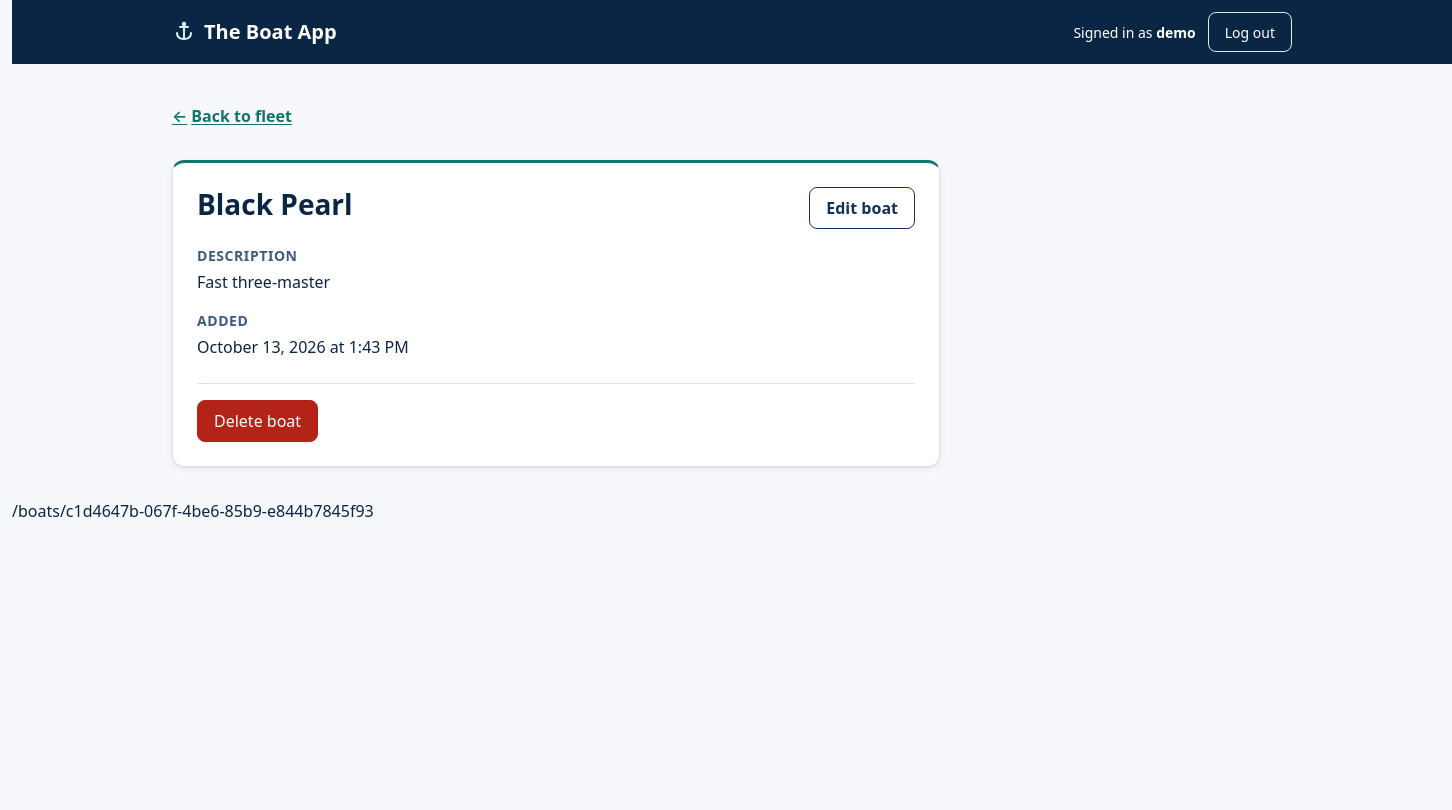
Test: DeleteBoat › explains a 404 (already deleted) and links to the fleet
Click the button "Delete boat". click: (258, 421)
box: [197,400,318,442]
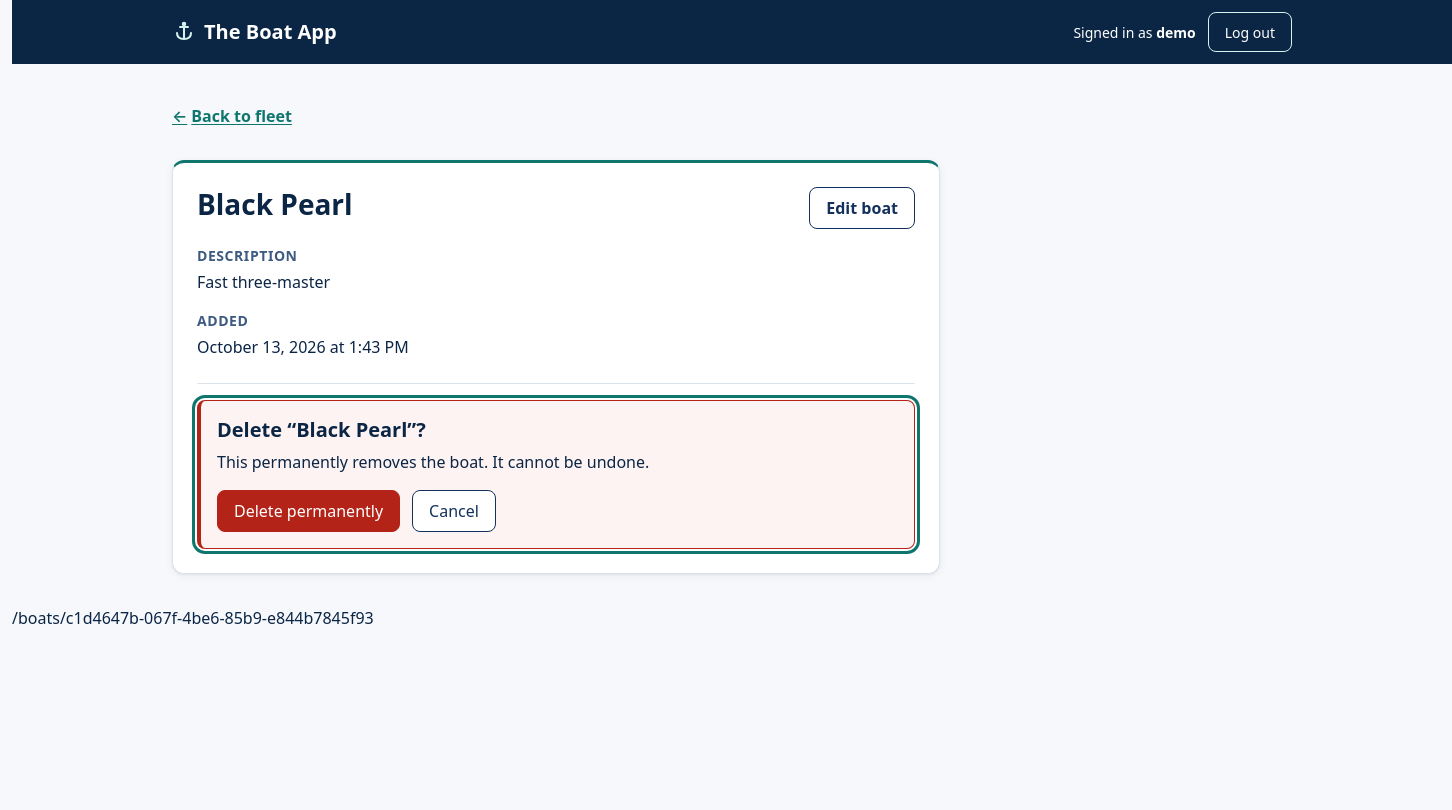
Click the button "Delete permanently". click: (309, 511)
box: [217,490,400,532]
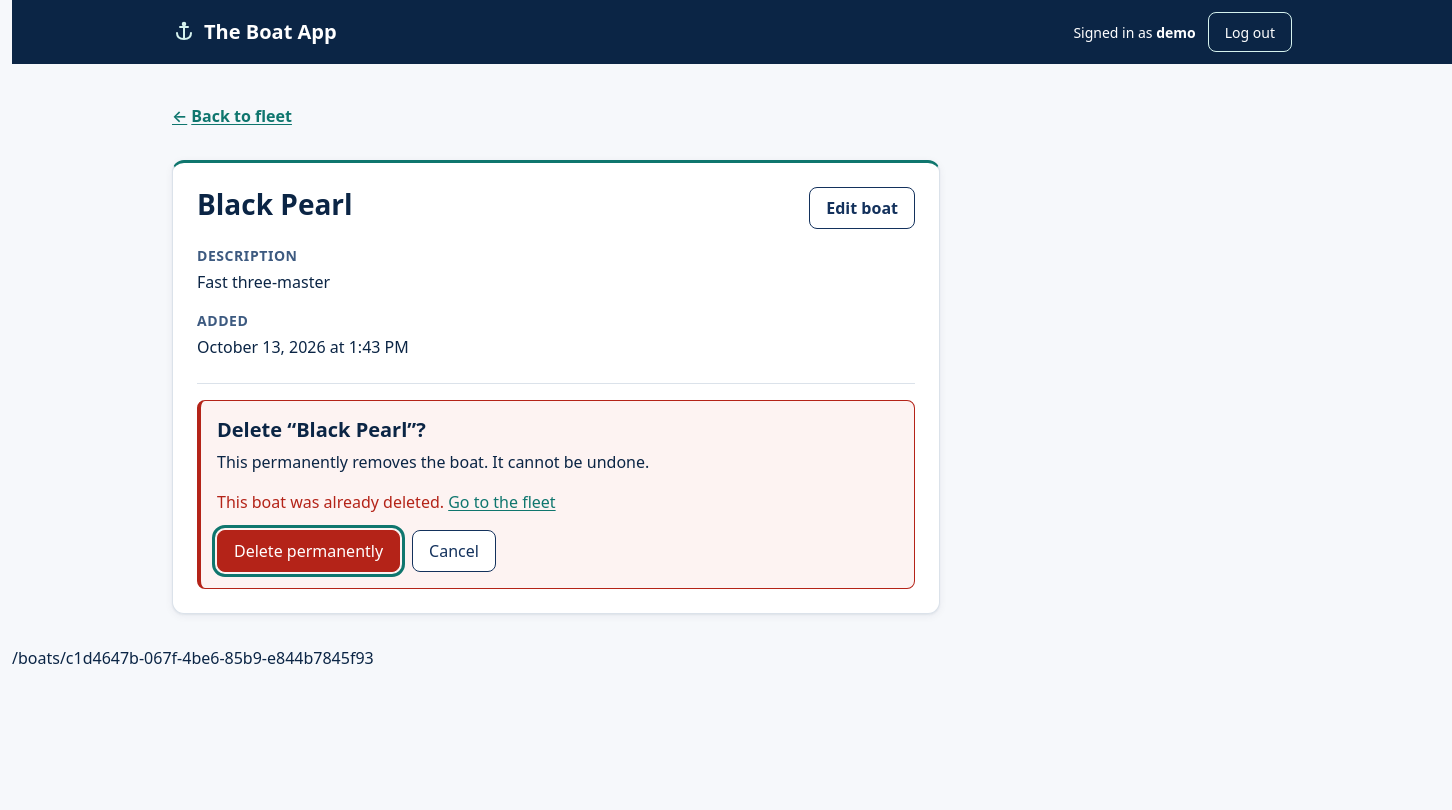
expect the message shows "This boat was already deleted.": met, box [217,491,448,513]
